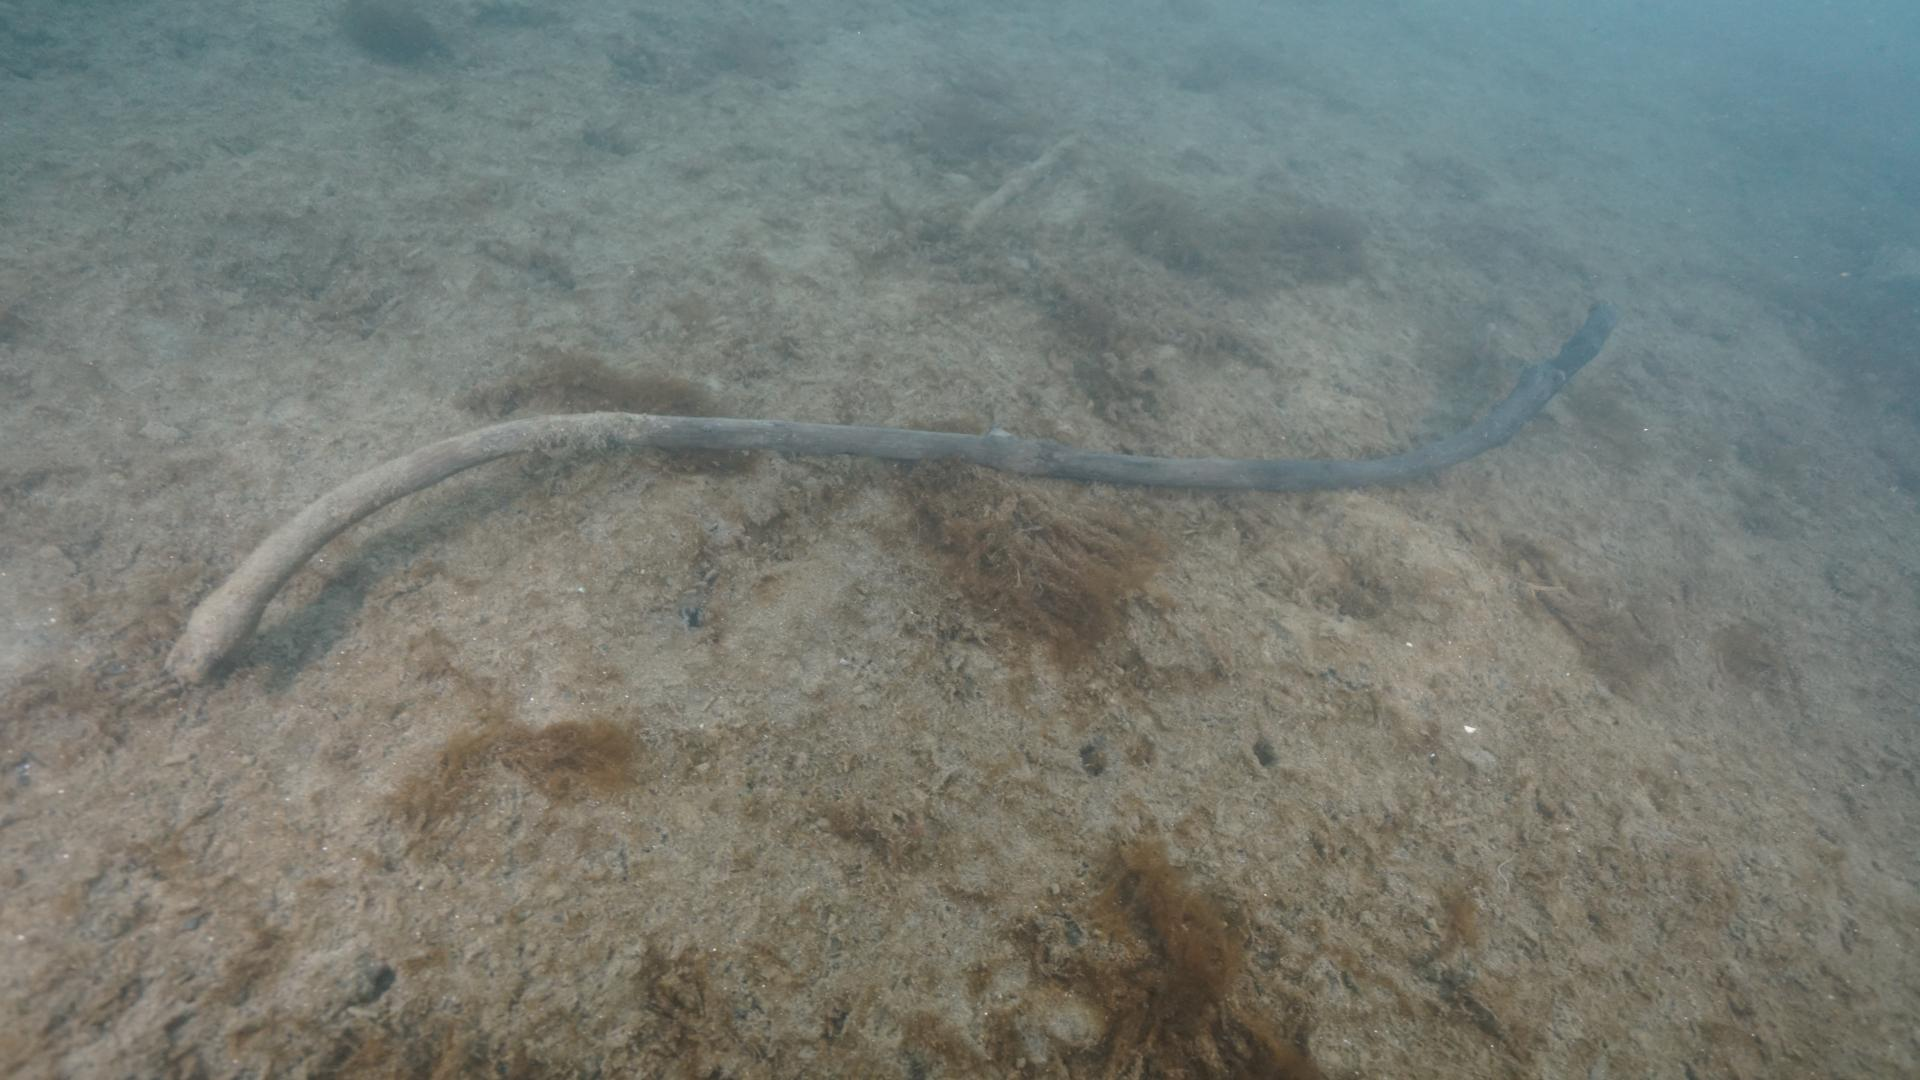wood: (164, 301, 1614, 684)
